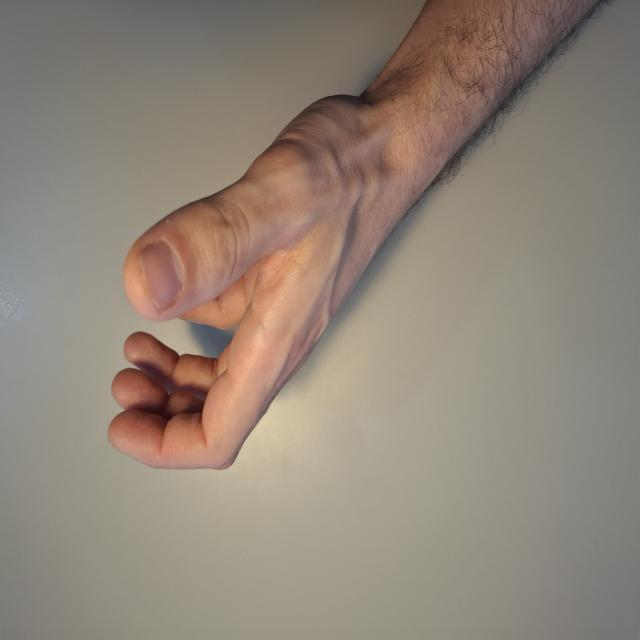glove_off: (104, 85, 404, 476)
